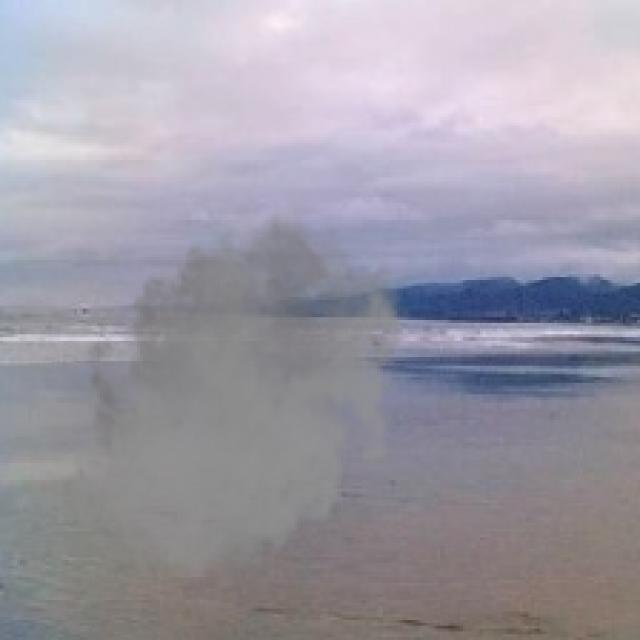Smoke: (62, 192, 414, 597)
